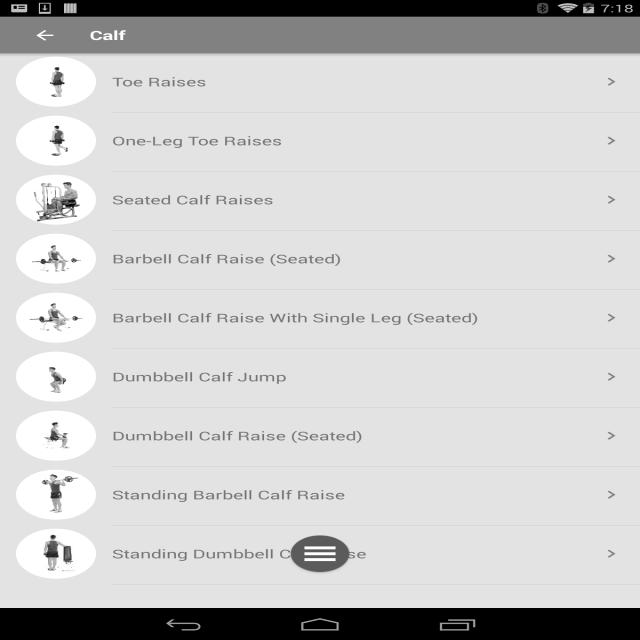ImageButton: (280, 529, 357, 577), (25, 22, 64, 47)
ImageView: (28, 531, 81, 573), (28, 121, 84, 160), (24, 240, 81, 276), (32, 472, 73, 511), (41, 364, 76, 394)
TextView: (109, 305, 500, 332), (100, 478, 366, 508), (105, 420, 384, 445), (106, 189, 292, 214), (108, 70, 222, 96), (80, 18, 146, 44)
